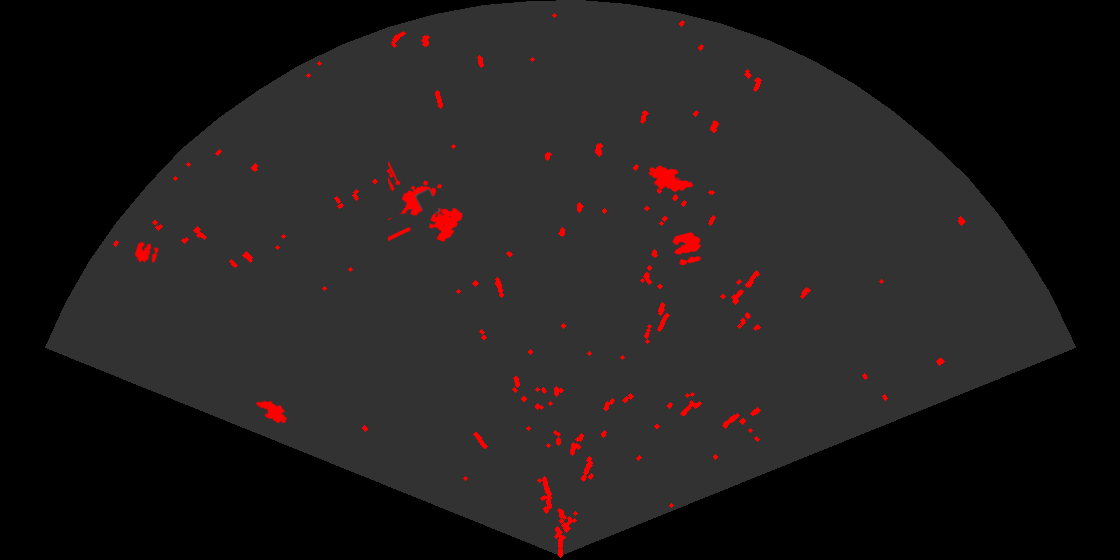AUV: (647, 164, 695, 193), (255, 399, 289, 425)
ball: (671, 231, 703, 267), (133, 240, 161, 264)
cage: (388, 160, 464, 243)
